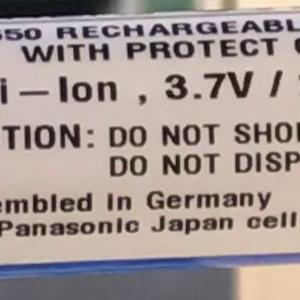3.7V: (155, 61, 258, 110)
